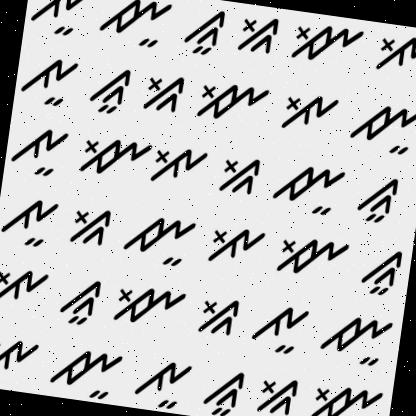ah: (246, 292, 314, 361), (13, 48, 80, 116), (0, 187, 64, 253), (126, 350, 192, 414), (8, 120, 70, 182), (23, 0, 93, 43)
nggah: (349, 172, 406, 230), (354, 242, 410, 300), (84, 60, 134, 122), (56, 270, 106, 332), (177, 1, 228, 60), (194, 361, 247, 416)
nggo: (207, 146, 264, 202), (60, 198, 116, 252), (194, 286, 242, 344), (136, 65, 186, 117), (229, 9, 281, 59), (250, 369, 302, 416)
njah: (311, 304, 395, 374), (118, 204, 201, 270), (44, 336, 126, 402), (343, 91, 416, 163), (268, 158, 348, 220), (96, 0, 177, 54)
njo: (192, 71, 272, 136), (285, 13, 369, 74), (274, 222, 354, 283), (72, 127, 154, 185), (108, 275, 186, 334), (307, 372, 389, 416)
o: (202, 210, 268, 274), (273, 80, 342, 138), (148, 136, 210, 194), (0, 258, 54, 313), (0, 326, 45, 383), (373, 25, 416, 78)
